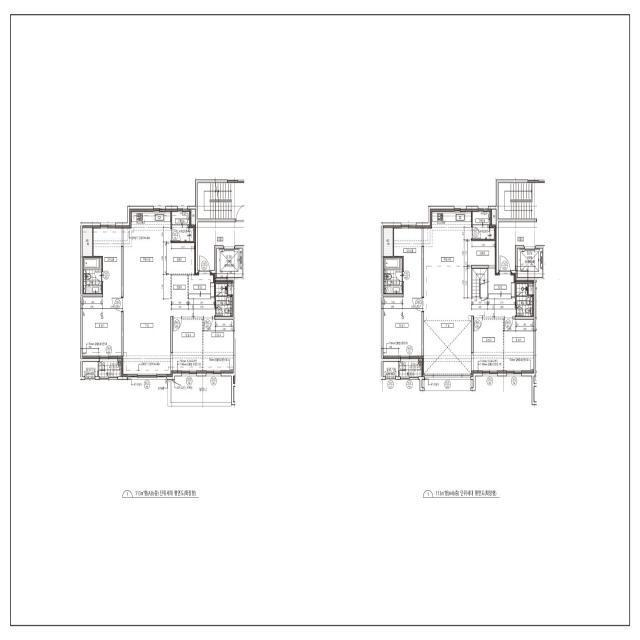space_balconi: (99, 361, 121, 377), (399, 362, 421, 376)
space_bedroom: (383, 297, 422, 358), (83, 297, 121, 358), (504, 319, 534, 373), (203, 320, 233, 373), (473, 320, 503, 373), (173, 319, 202, 373)
space_dressroom: (394, 226, 422, 297), (93, 226, 121, 297)
space_elevator: (517, 249, 543, 277), (217, 249, 242, 277)
space_elevator_hall: (498, 222, 545, 270), (198, 222, 244, 270)
space_front: (488, 268, 515, 299), (189, 272, 214, 299)
space_kitchen: (424, 209, 496, 277), (123, 209, 171, 299)
space_living_room: (422, 277, 515, 377), (122, 299, 215, 377)
space_multipurpose_space: (172, 209, 193, 241), (473, 209, 494, 239)
space_other: (171, 243, 194, 274), (172, 275, 188, 299), (383, 226, 393, 256), (83, 226, 92, 256), (190, 209, 196, 226), (481, 282, 487, 298), (491, 209, 496, 227), (228, 284, 233, 295)
space_outdoor_room: (383, 362, 398, 377), (83, 362, 98, 377)
space_staircase: (198, 183, 244, 219), (498, 183, 537, 219), (472, 269, 487, 299)
space_toilet: (84, 258, 102, 294), (384, 258, 402, 293), (517, 284, 533, 316), (216, 284, 232, 316)
